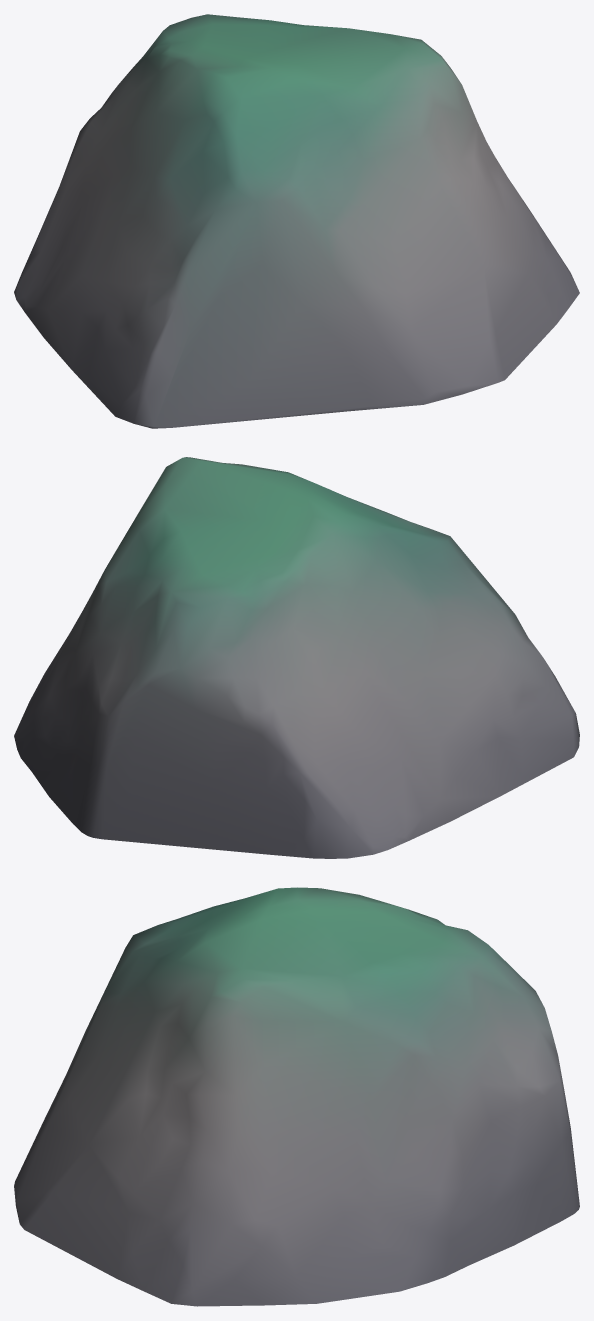
Rendered from S_BoulderLarge_Moss.fbx.
3 views of the same model, one above another, from view 1: azimuth 30°, elevation 25°; view 2: azimuth 150°, elevation 25°; view 3: azimuth 270°, elevation 25° (orthographic). The views are drawn at different scales.
Visible parts, largest first — view 1: BoulderLarge_Moss_GEO; view 2: BoulderLarge_Moss_GEO; view 3: BoulderLarge_Moss_GEO.
Boxes of the visible parts, x1,y1,x2,y2 form: BoulderLarge_Moss_GEO: (14,14,579,428); BoulderLarge_Moss_GEO: (14,457,579,858); BoulderLarge_Moss_GEO: (14,887,579,1306).
Bounding box in the file's own units: 9.86 × 4.98 × 9.67.
